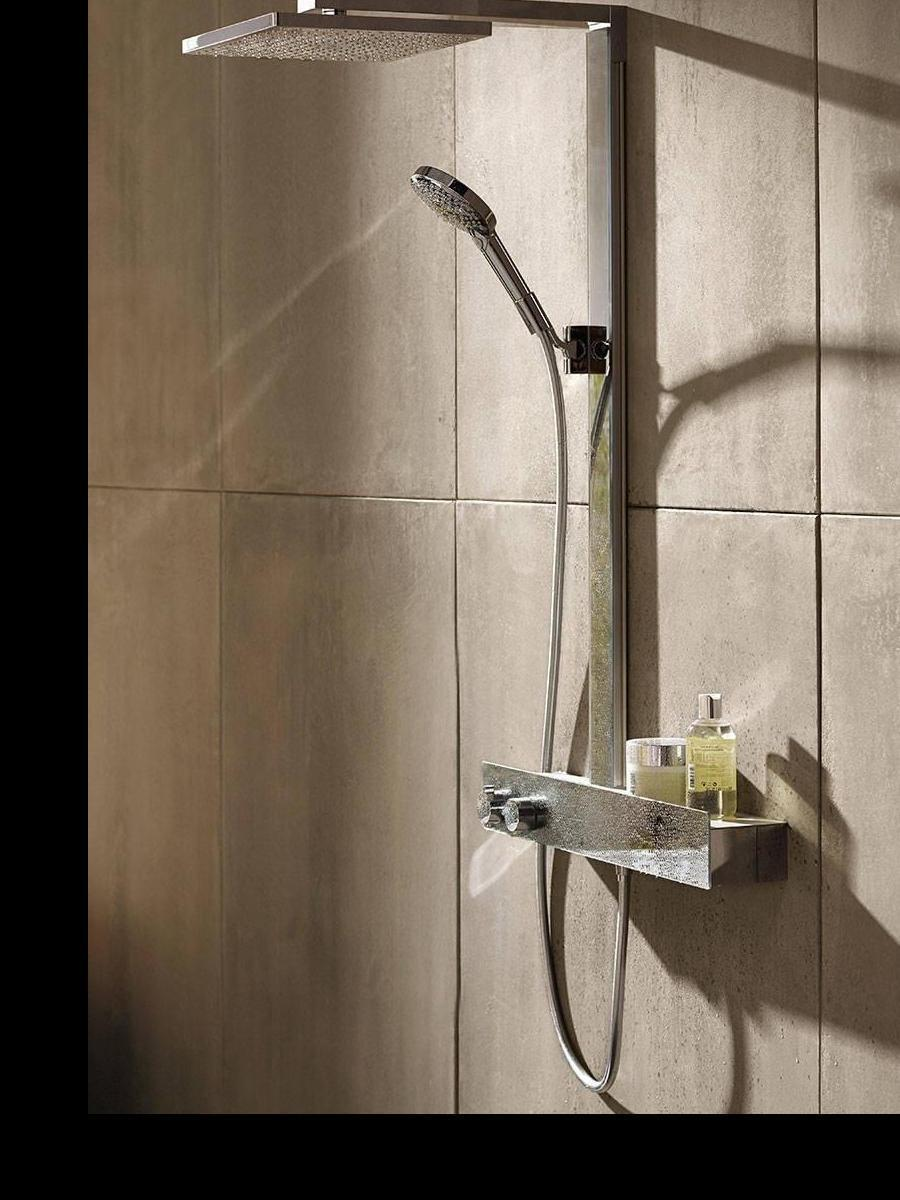Ducha: (88, 0, 900, 1113)
